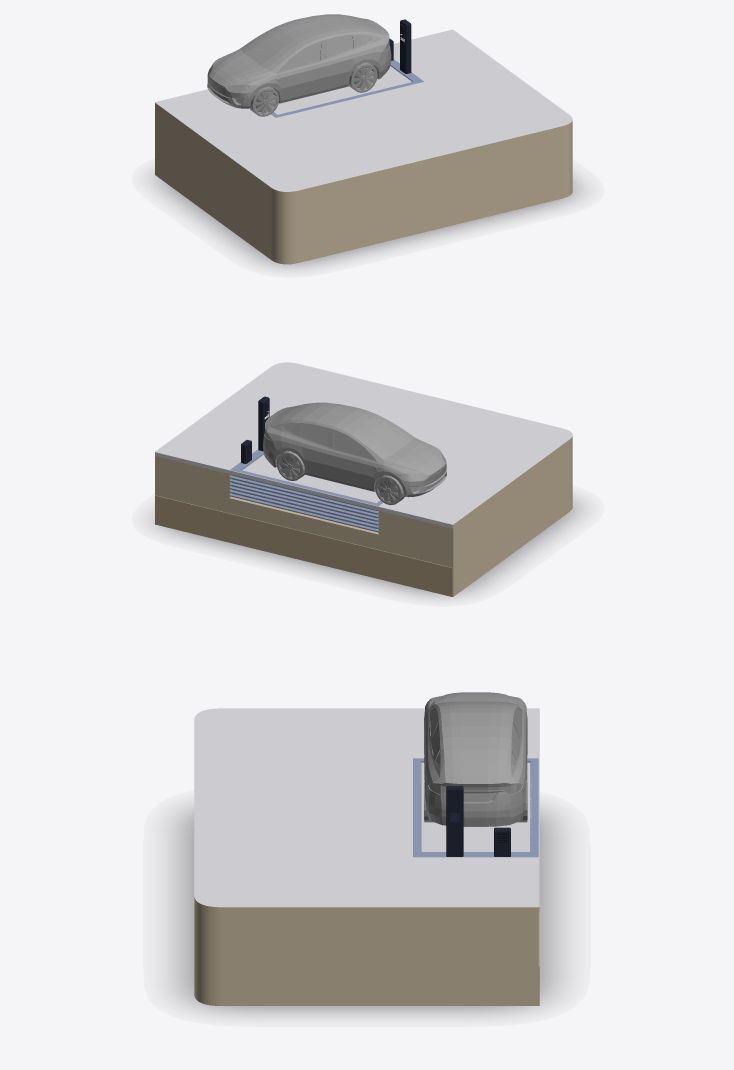
The model's file is sett-scroll-keuze-ondergronds.glb.
3 renders of one model, top to bottom at view 1: azimuth 30°, elevation 25°; view 2: azimuth 150°, elevation 25°; view 3: azimuth 270°, elevation 25°, orthographic. The views are drawn at different scales.
Visible parts, largest first — view 1: object 37, scroll_drive, contact_shadow, object 38, BAK_met_RIBS, Charge_pole; view 2: object 37, scroll_drive, object 40, contact_shadow, object 39, object 41, object 38, Panel_side, Extruded.006, Extruded.003, Extruded.008, Extruded.004 (+2 smaller); view 3: object 37, scroll_drive, contact_shadow, object 38, BAK_met_RIBS, Charge_pole, Extruded.001.
Boxes of the visible parts, x1=… form: object 37: x1=155, y1=30, x2=572, y2=264; scroll_drive: x1=207, y1=14, x2=391, y2=116; contact_shadow: x1=155, y1=176, x2=580, y2=267; object 38: x1=274, y1=66, x2=411, y2=114; BAK_met_RIBS: x1=271, y1=59, x2=423, y2=117; Charge_pole: x1=400, y1=19, x2=411, y2=73; object 37: x1=155, y1=362, x2=572, y2=596; scroll_drive: x1=263, y1=402, x2=446, y2=505; object 40: x1=155, y1=495, x2=452, y2=596; contact_shadow: x1=157, y1=499, x2=580, y2=596; object 39: x1=229, y1=497, x2=378, y2=549; object 41: x1=155, y1=452, x2=452, y2=528; object 38: x1=242, y1=455, x2=380, y2=502; Panel_side: x1=232, y1=468, x2=376, y2=528; Extruded.006: x1=229, y1=486, x2=378, y2=525; Extruded.003: x1=229, y1=476, x2=378, y2=514; Extruded.008: x1=229, y1=493, x2=378, y2=532; Extruded.004: x1=229, y1=483, x2=378, y2=521; object 37: x1=194, y1=708, x2=538, y2=1005; scroll_drive: x1=424, y1=692, x2=527, y2=826; contact_shadow: x1=173, y1=807, x2=560, y2=1014; object 38: x1=420, y1=762, x2=531, y2=851; BAK_met_RIBS: x1=413, y1=758, x2=532, y2=857; Charge_pole: x1=446, y1=786, x2=463, y2=856; Extruded.001: x1=533, y1=758, x2=538, y2=857.
Size of the model in its own units: 1230 by 347 by 1230.
14 materials, 1 textured.
